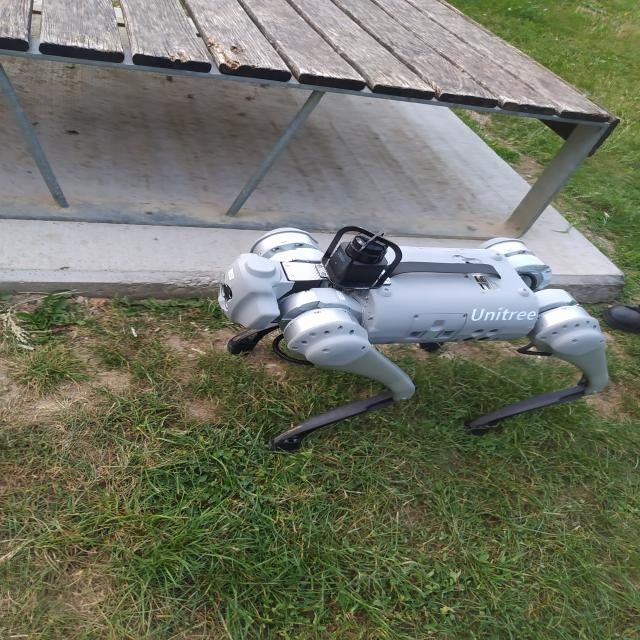unitree-go1-robot: (203, 210, 640, 462)
